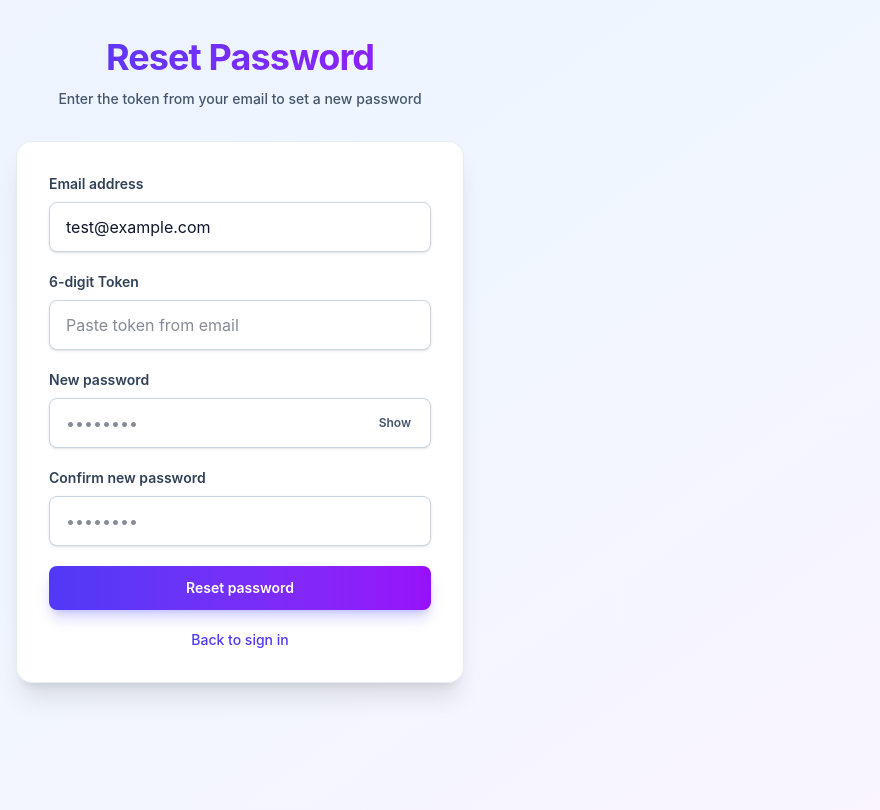
Test: ResetPasswordPage › validates matching passwords
Type "123456" into the field labelled "6-digit Token" at (240, 325), box [49, 300, 431, 350]
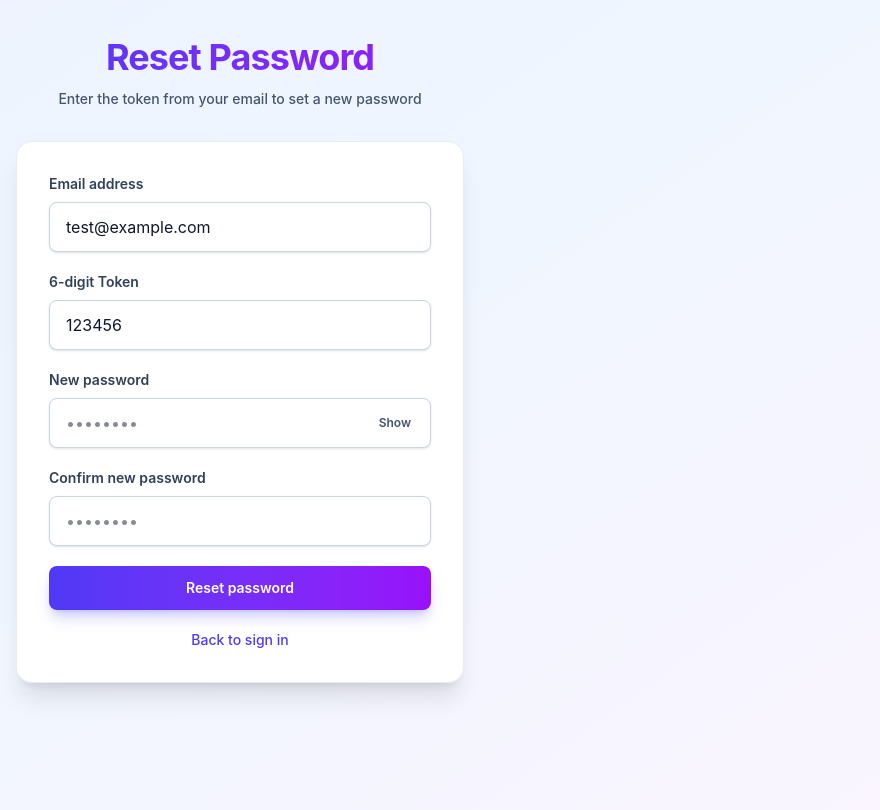
Type "pass1" into the password field labelled "New password" at (240, 423), box [49, 398, 431, 448]
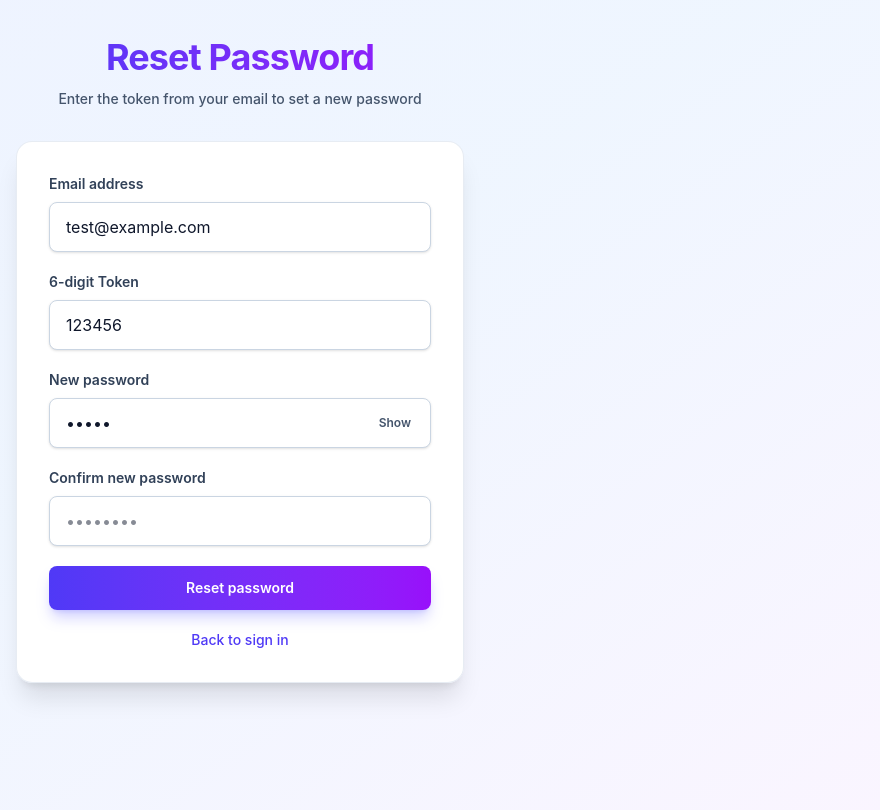
Type "pass2" into the password field labelled "Confirm new password" at (240, 521), box [49, 496, 431, 546]
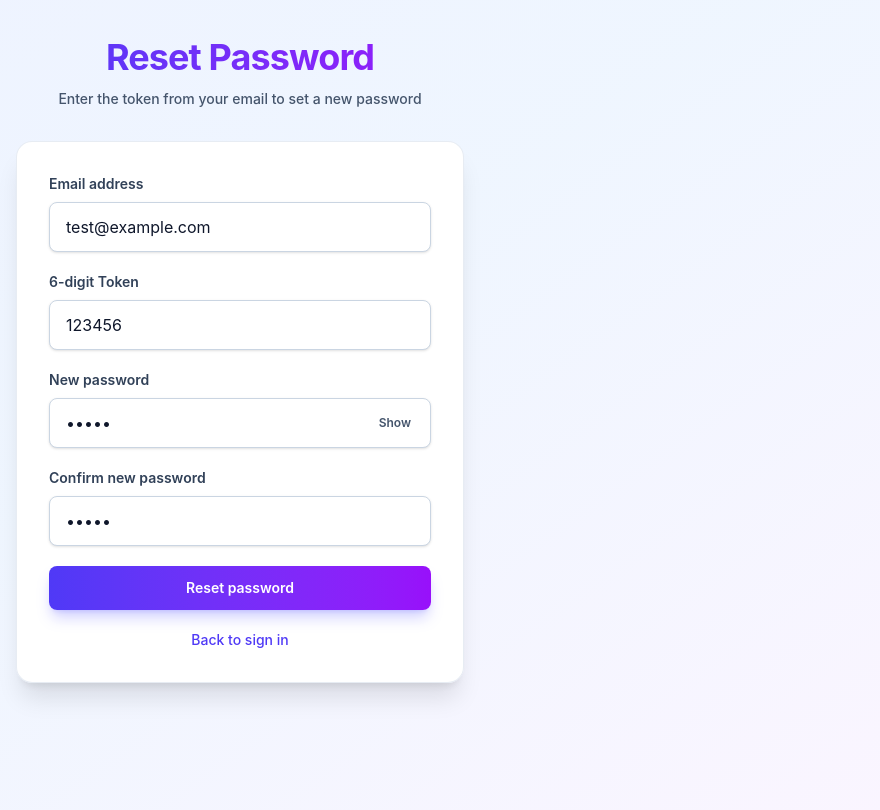
Click the button "Reset password" at (240, 588), box [49, 566, 431, 610]
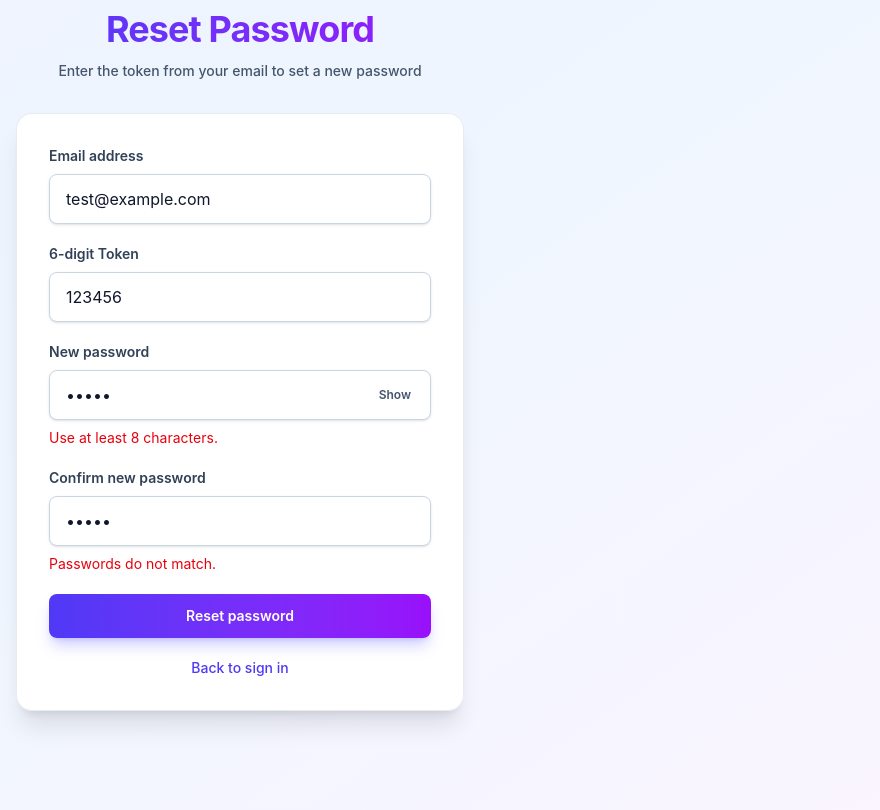
Check: the text "Passwords do not match." is shown, box [49, 555, 216, 572]
